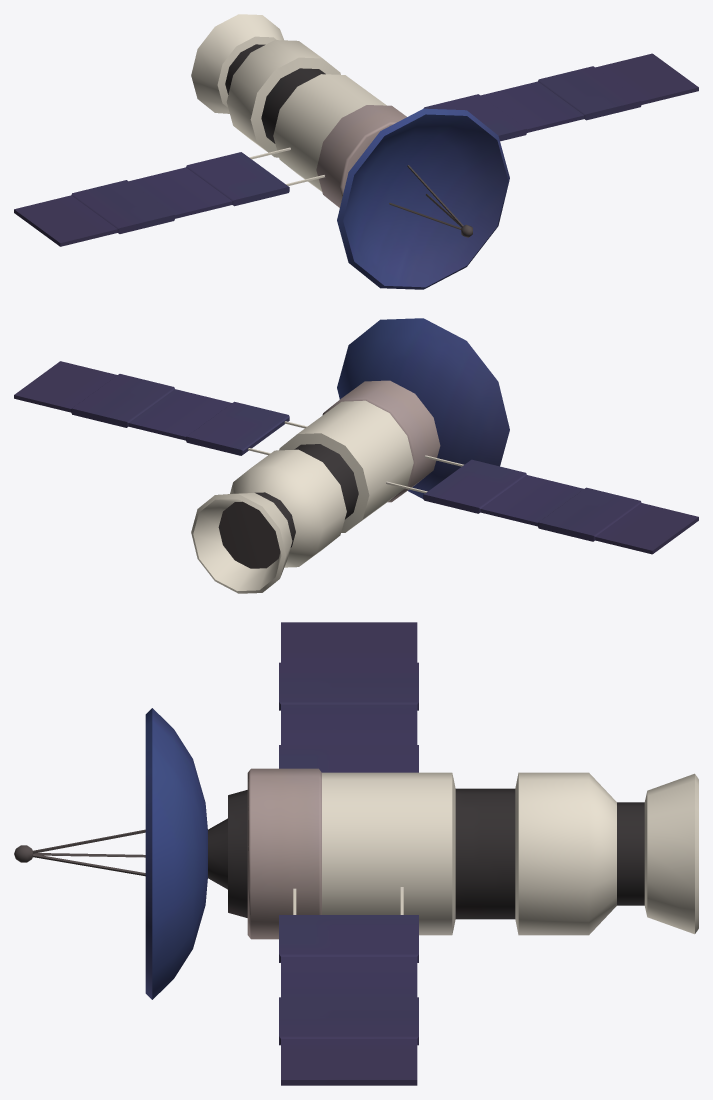
Rendered from Satellite_2.fbx.
3 renders of one model, top to bottom at view 1: azimuth 30°, elevation 25°; view 2: azimuth 150°, elevation 25°; view 3: azimuth 270°, elevation 25°, orthographic. The views are drawn at different scales.
Visible parts, largest first — view 1: Satellite_2; view 2: Satellite_2; view 3: Satellite_2.
Boxes of the visible parts, x1,y1,x2,y2 form: Satellite_2: (14, 14, 698, 289); Satellite_2: (14, 318, 698, 593); Satellite_2: (14, 622, 698, 1085).
Bounding box in the file's own units: 6.36 × 1.72 × 4.02.
